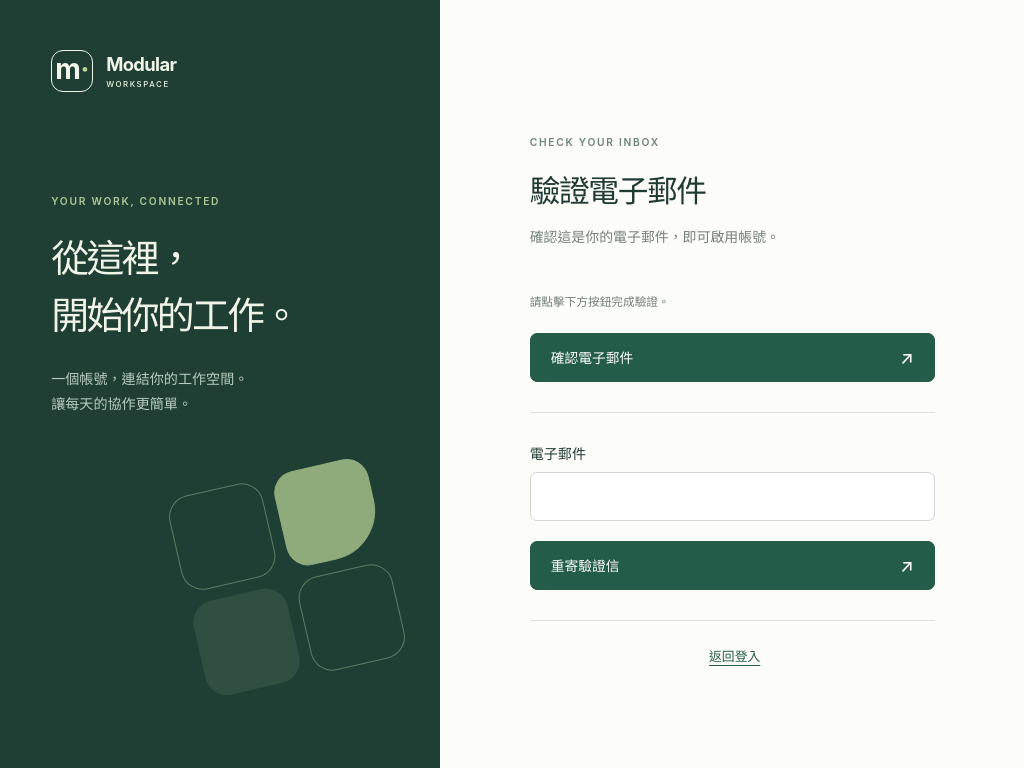
Test case: keeps an email link in memory through StrictMode and requires explicit confirmation
Click the button "確認電子郵件 ↗" at (592, 358), box [530,333,935,382]
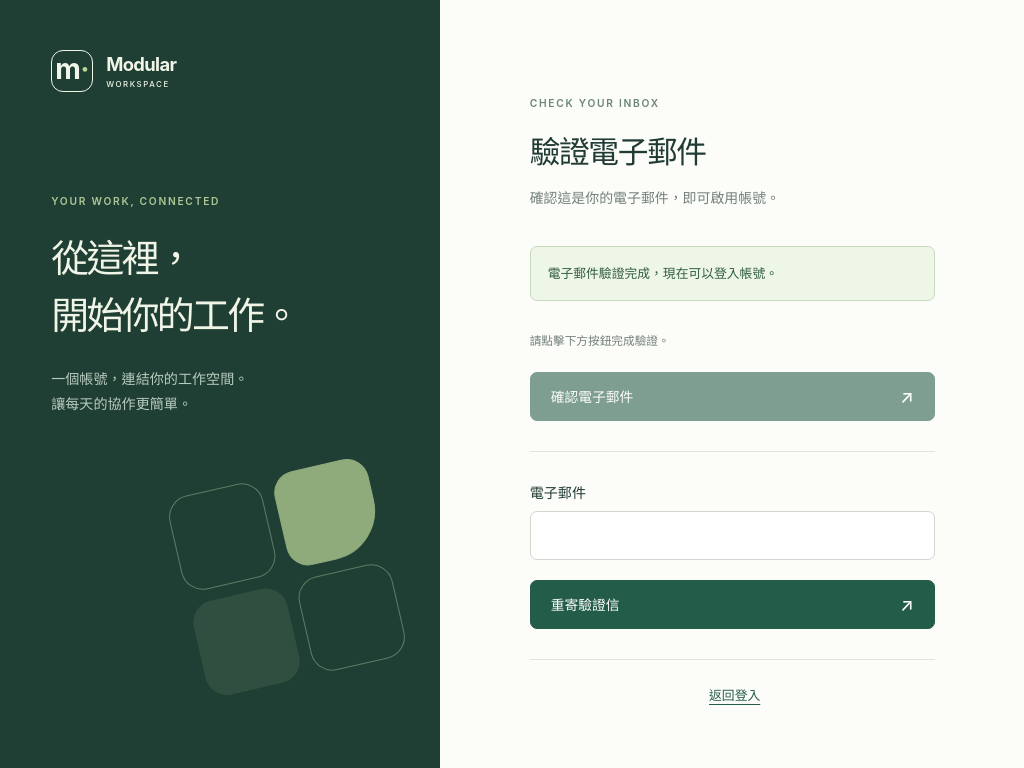
Result: the message shows "電子郵件驗證完成" at [548,266,778,281]
